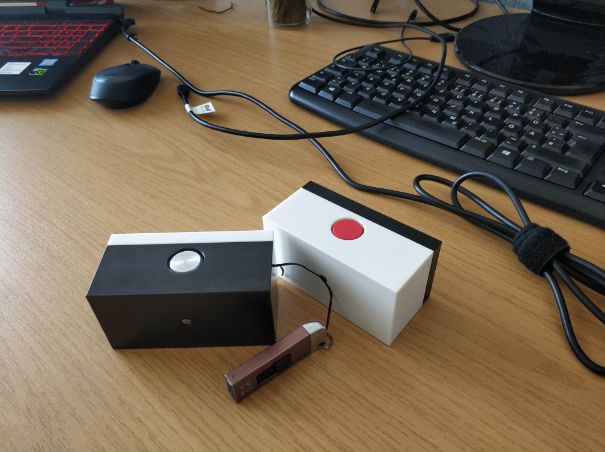black+white+red: (258, 177, 446, 347)
white+black+silver: (84, 227, 282, 349)
